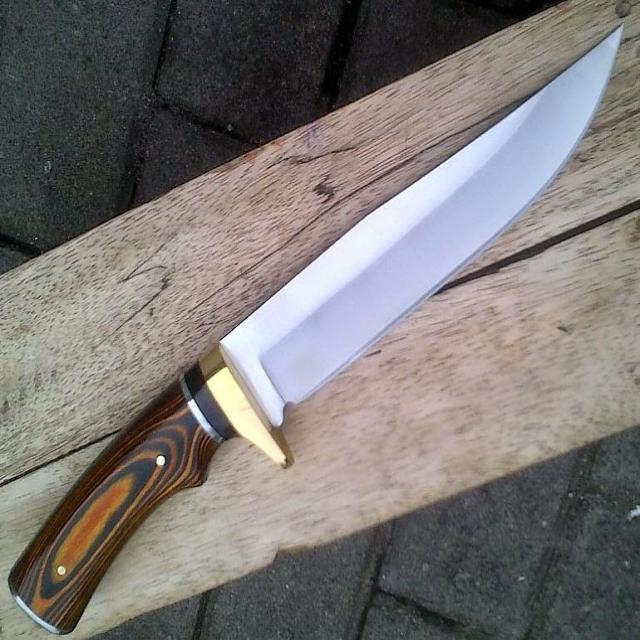Pisau: (0, 12, 637, 634)
